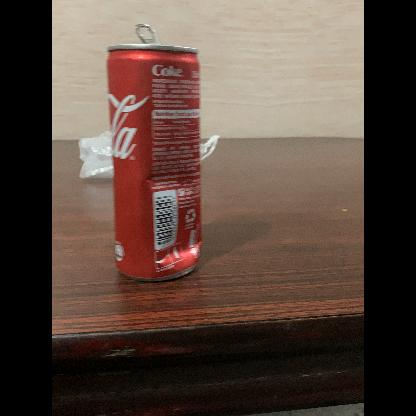Dent_Can: (144, 163, 202, 197), (154, 231, 200, 272)
Lid_Open: (130, 20, 166, 56)
Tin_Can: (98, 21, 214, 290)
